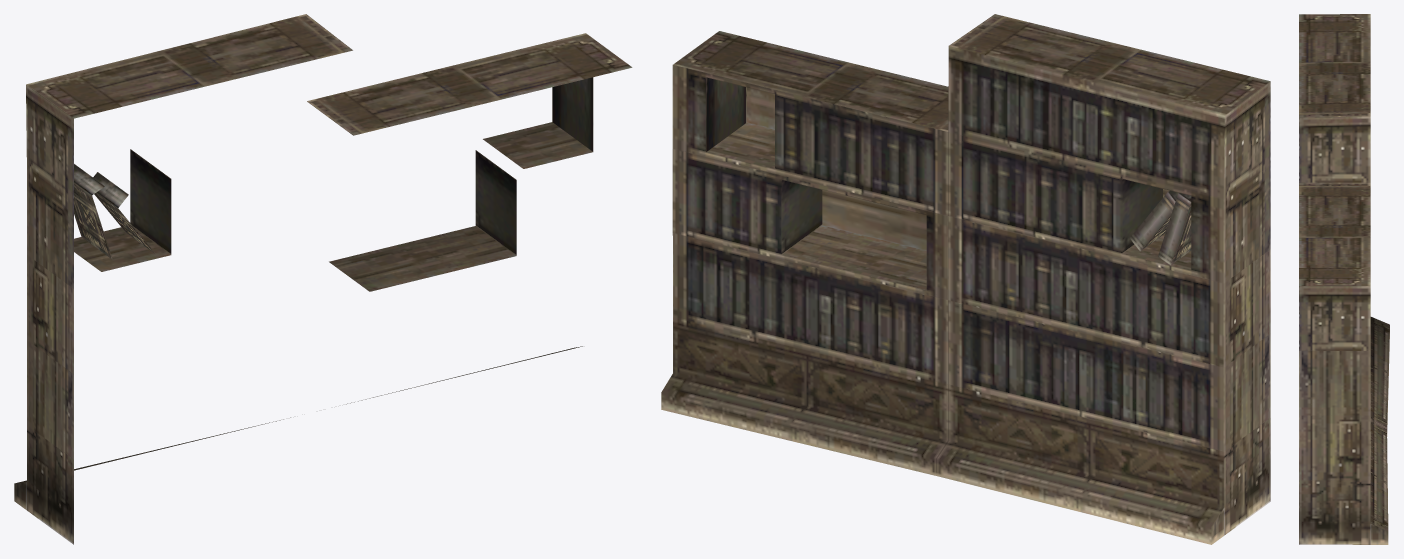
Rendered from OZ_20_wv_T04bShelf01A.glb.
The picture shows the model from 3 angles, left to right: view 1: azimuth 30°, elevation 25°; view 2: azimuth 150°, elevation 25°; view 3: azimuth 270°, elevation 25°; orthographic projection. The views are drawn at different scales.
Visible parts, largest first — view 1: OM_20_wv_T04bShelf01A; view 2: OM_20_wv_T04bShelf01A; view 3: OM_20_wv_T04bShelf01A.
Boxes of the visible parts, left/top/right/bottom form: OM_20_wv_T04bShelf01A: left=14, top=14, right=632, bottom=544; OM_20_wv_T04bShelf01A: left=661, top=14, right=1270, bottom=544; OM_20_wv_T04bShelf01A: left=1299, top=14, right=1389, bottom=544.
Bounding box in the file's own units: 3.61 × 2.64 × 0.667.
1 material, 1 textured.
